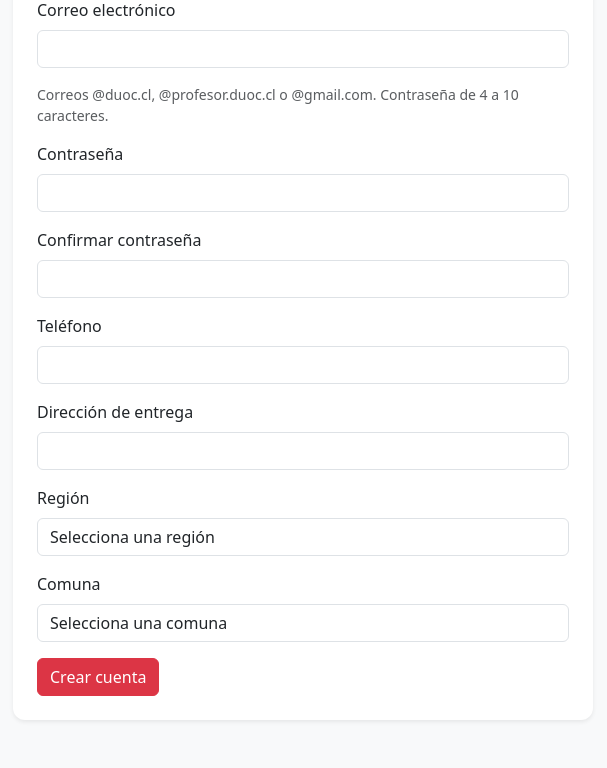
it: Componentes React: renderizado, props, estado y eventos › el registro muestra errores de campos vacíos
This screenshot has width=607, height=768.
(page scrolled)
Click the button "Crear cuenta" at (98, 677), box [37,658,159,696]
(page scrolled)
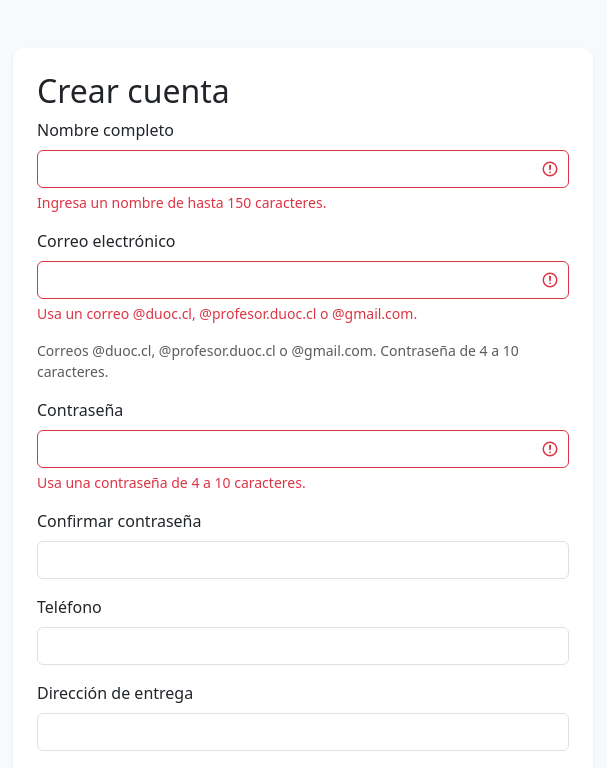
Expected: the message "Ingresa un nombre de hasta 150 caracteres." is shown, [37,193,326,212]
